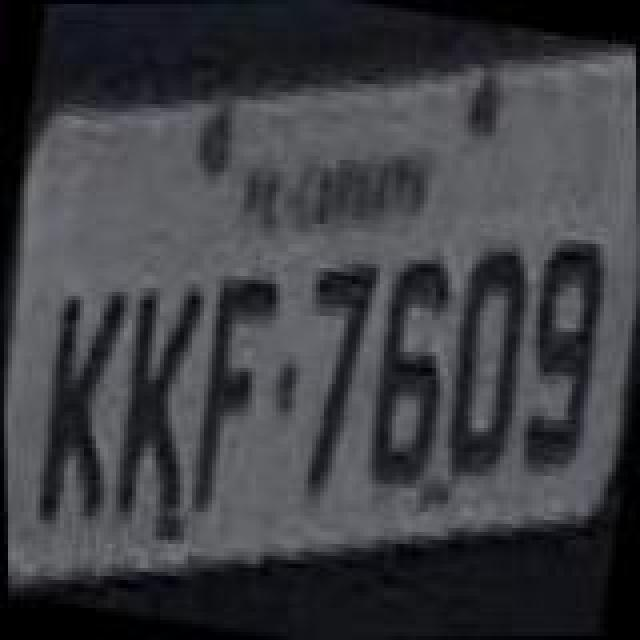6: (356, 252, 464, 496)
7: (276, 254, 384, 498)
9: (506, 232, 618, 480)
F: (182, 268, 290, 520)
K: (100, 274, 220, 530), (22, 286, 138, 538)
O: (430, 244, 542, 488)
